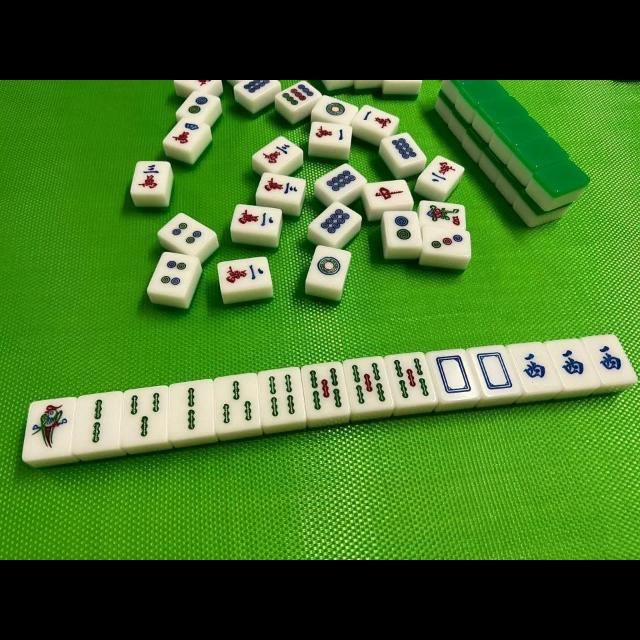b1: (24, 398, 72, 458)
b2: (169, 380, 215, 438), (77, 393, 121, 453)
b3: (120, 386, 168, 446), (214, 374, 260, 434)
b4: (259, 367, 307, 427)
b5: (302, 363, 348, 419), (388, 354, 434, 404), (346, 358, 390, 410)
c1: (312, 120, 350, 146), (356, 108, 396, 132)
c2: (218, 258, 270, 290), (234, 204, 278, 236), (422, 158, 460, 190)
c3: (256, 138, 300, 170), (132, 160, 170, 194), (258, 174, 304, 200)
c4: (167, 119, 206, 149)
d1: (310, 245, 346, 287), (311, 95, 357, 125)
d2: (386, 210, 419, 246), (178, 90, 216, 120)
d3: (424, 232, 468, 256)
d4: (153, 254, 195, 296), (163, 218, 207, 250)
d8: (312, 204, 358, 240), (384, 132, 426, 166), (320, 165, 362, 195)
d9: (278, 84, 316, 110)
dr: (368, 180, 410, 208)
dw: (430, 349, 474, 399), (472, 345, 516, 395)
s4-s: (422, 200, 462, 230)
ww: (589, 335, 633, 383), (552, 339, 592, 389), (512, 344, 552, 388)
